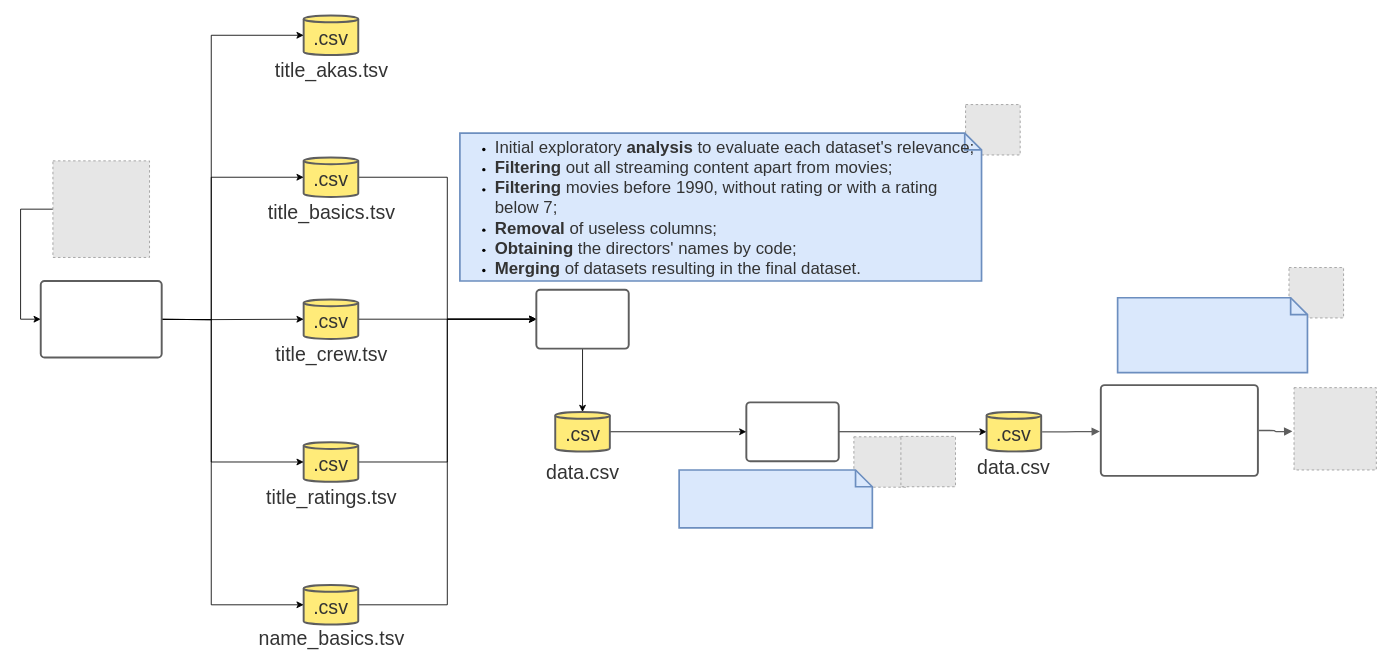
Image size: 1391x668. Some labels were removed from this diagram. Grey dashed boxes stand in for pictures. Here are the shapes that lost their labels. From the top down, the centre of each, then its label:
[100,319]: Data Collection from IMDb
[582,318]: Data Cleaning
[1212,335]: Graphs, WordClouds and NER generation.
[792,431]: Web Scraping
[1178,430]: Exploratory Analysis w/ Data Visualization
[775,498]: S ynopsis scraping using BeautifulSoup .
